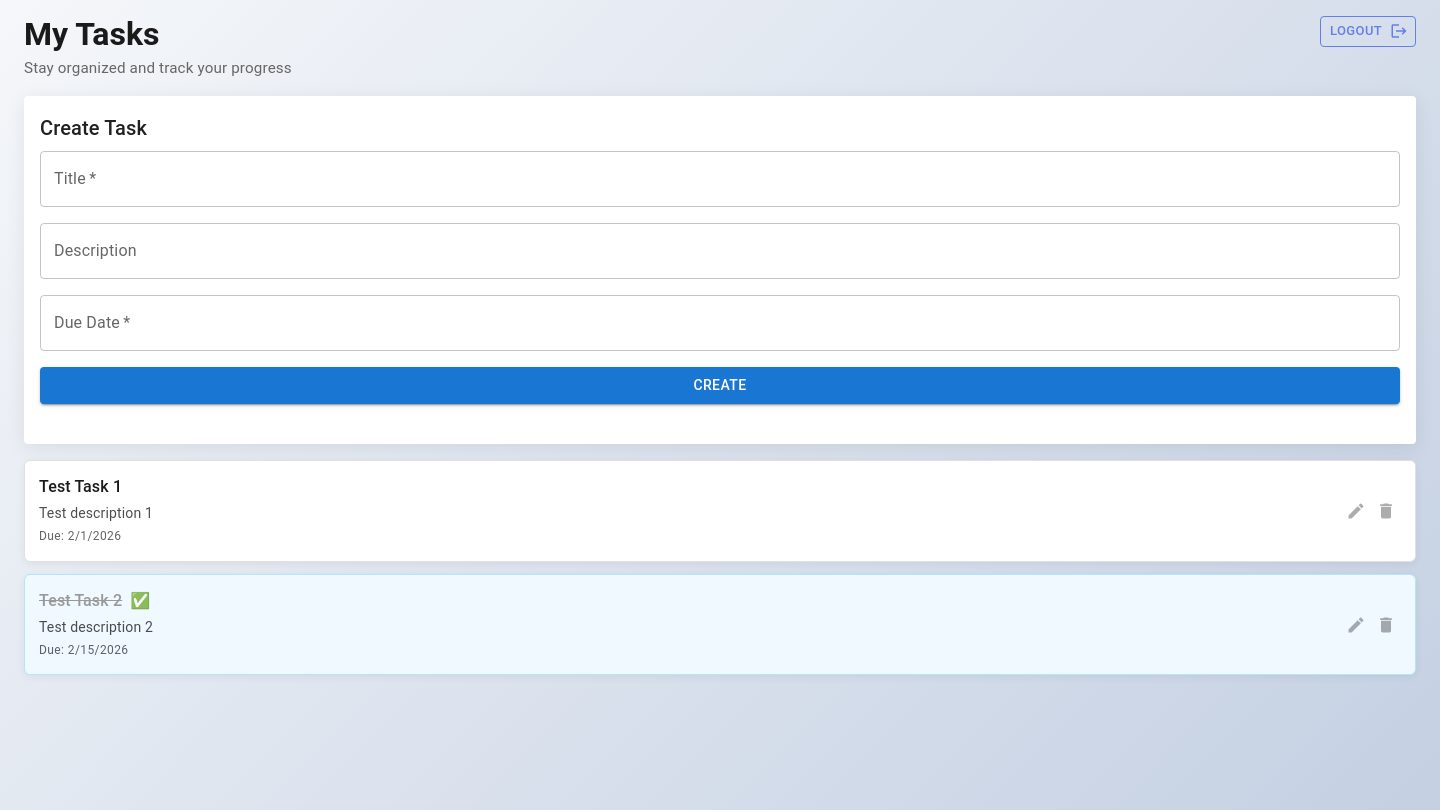
Test: TasksPage › closes edit dialog when cancel is clicked
Expected: the text "Test Task 1" is shown, [39, 475, 122, 499]
Step 1. Click the 3rd button → (1356, 511), box [1341, 496, 1371, 526]
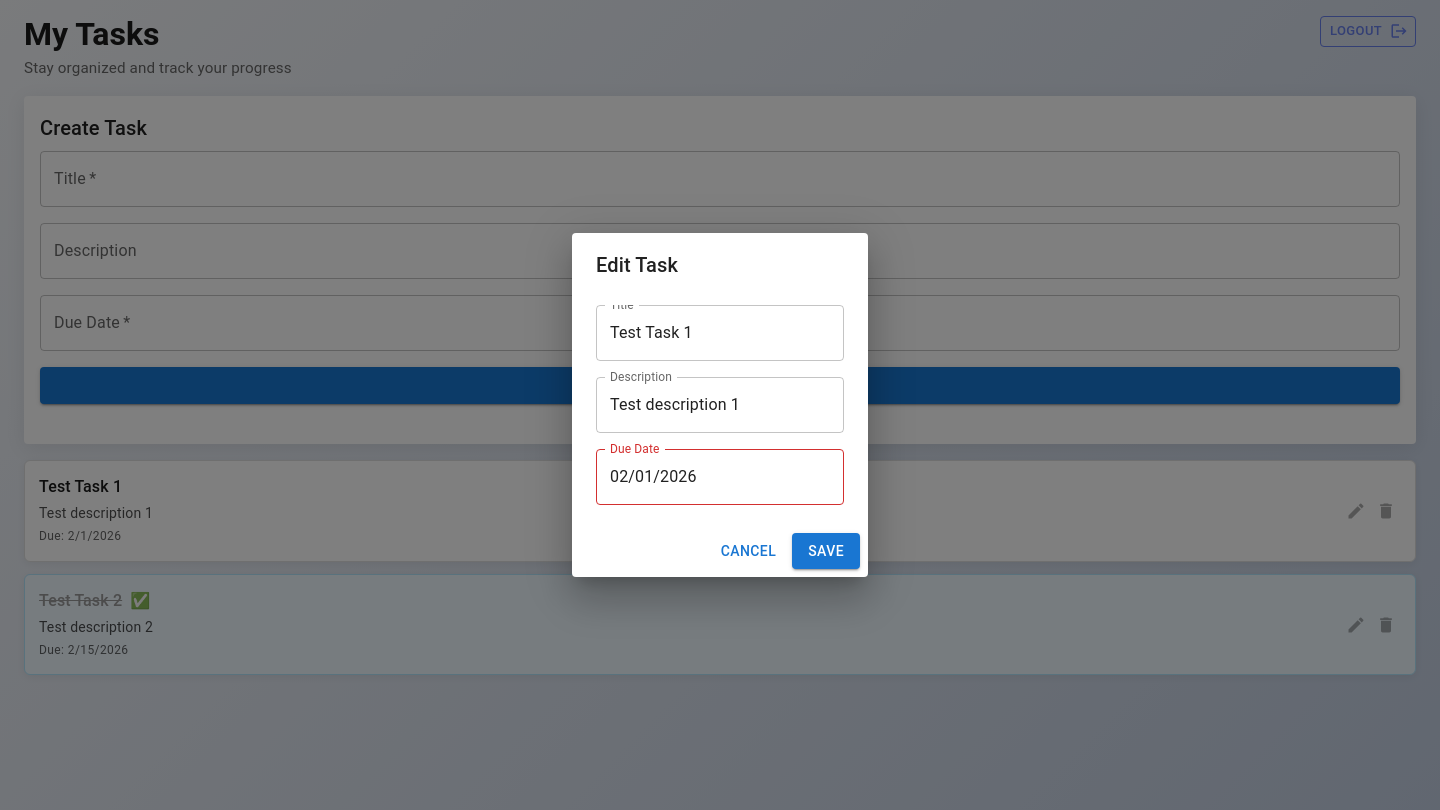
Now the heading "Edit Task" is shown, box [596, 253, 678, 277]
Step 2. Click the button "Cancel" → (748, 551), box [713, 533, 784, 569]
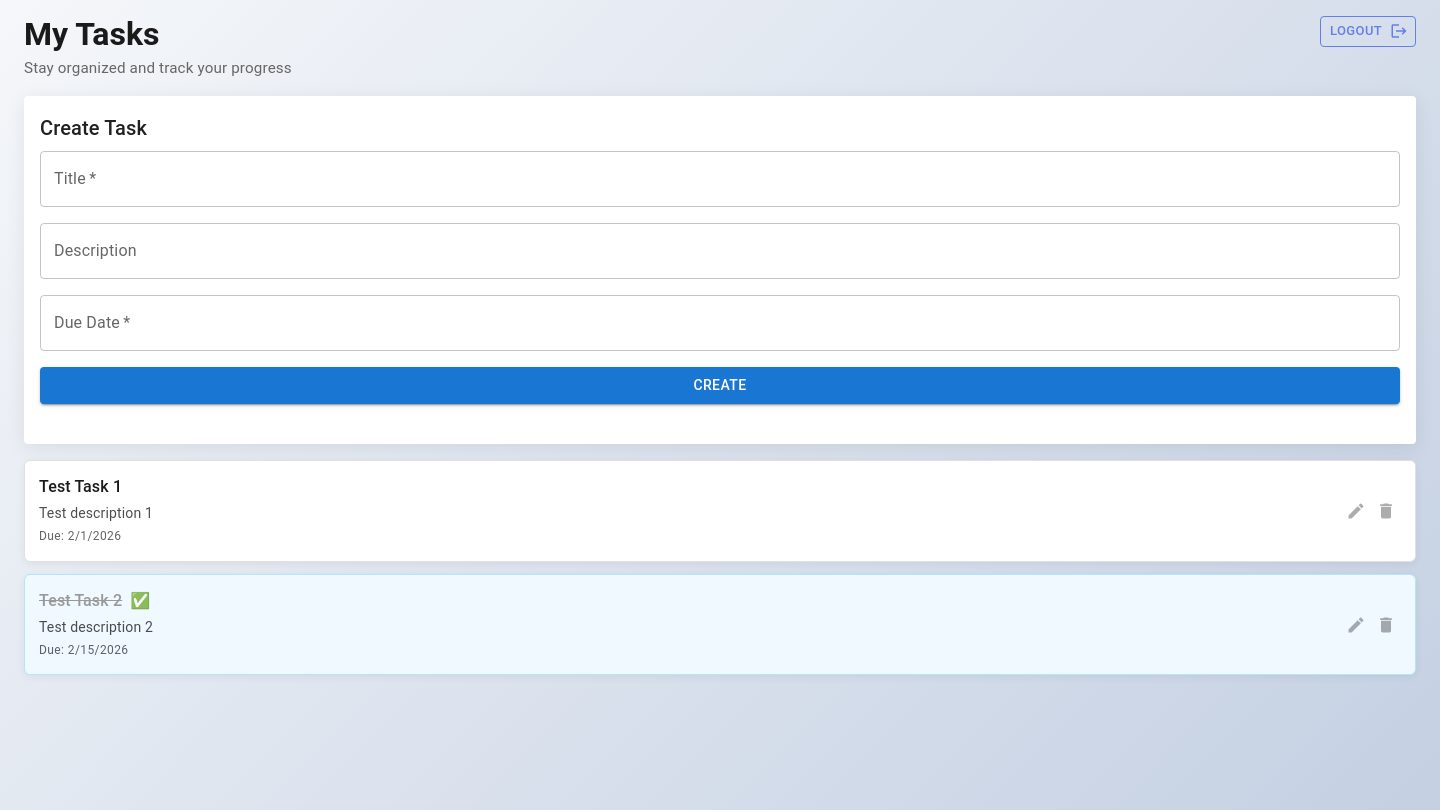
Now the heading "Edit Task" is gone
